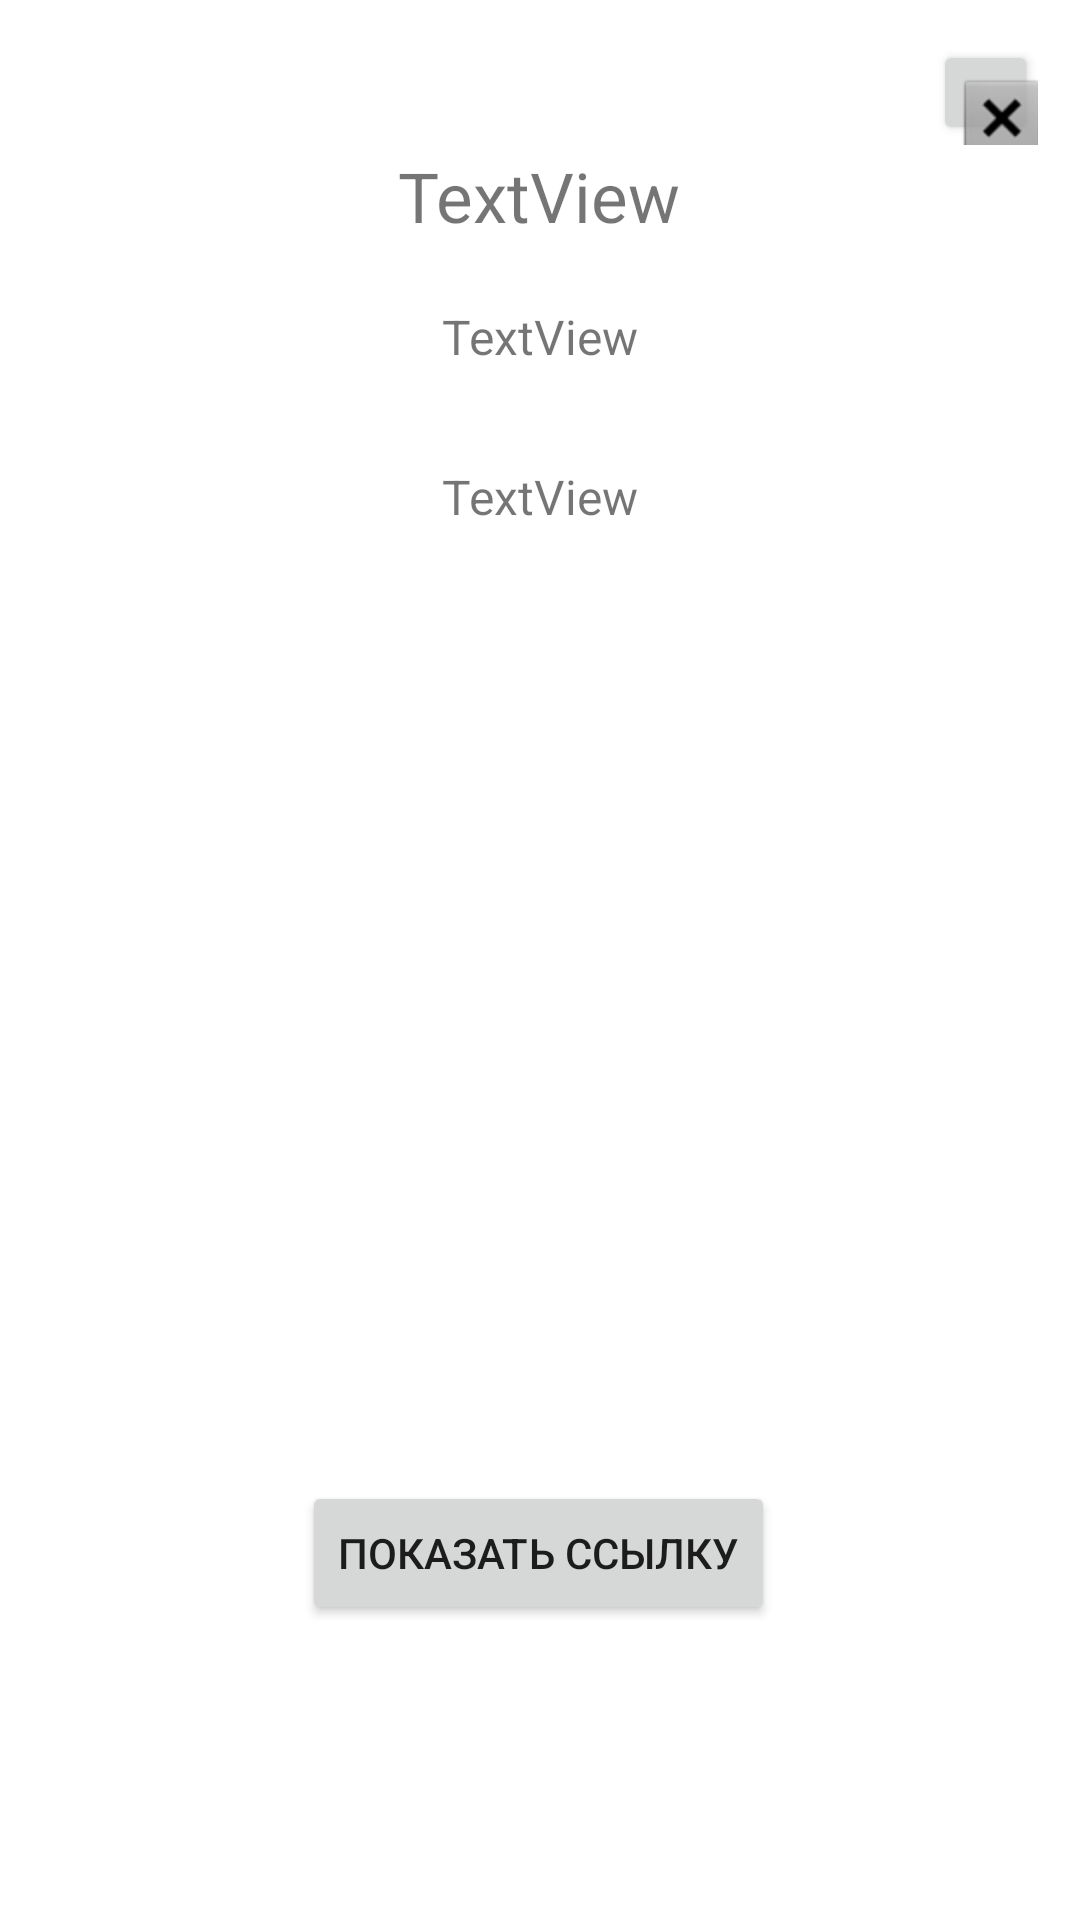

Icons on this 1080x1920 Android screen, each with the point to tap as [x,y]:
close clear cancel: [991,101]
